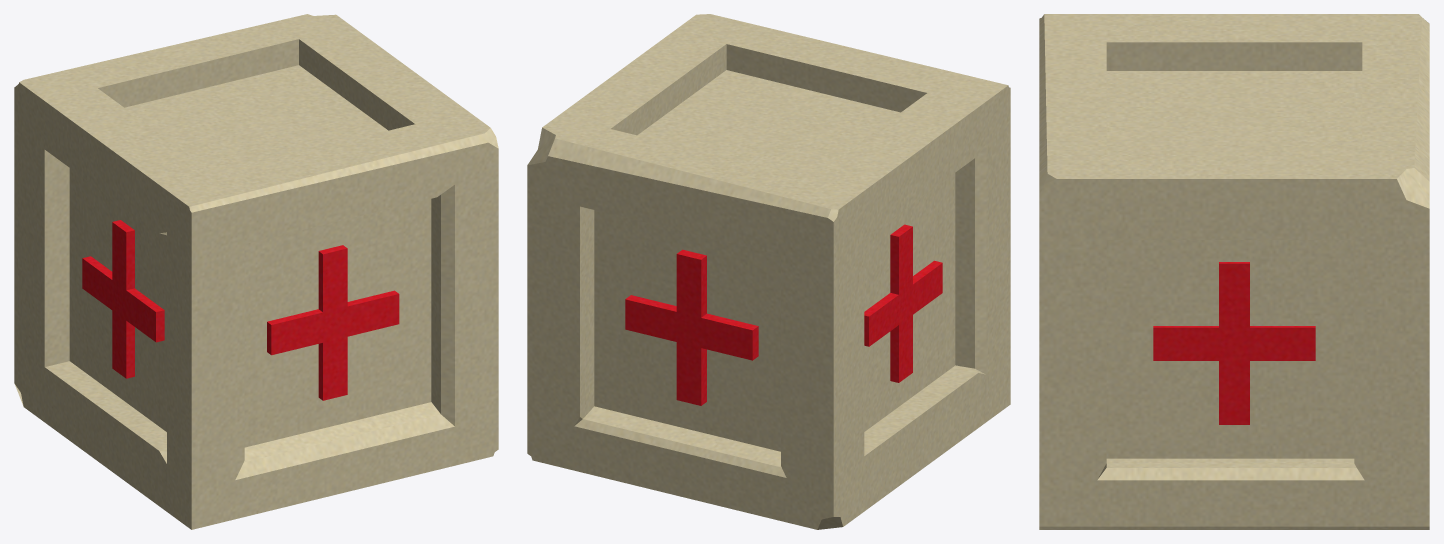
The model's file is health-box.fbx.
3 renders of one model, left to right at view 1: azimuth 30°, elevation 25°; view 2: azimuth 150°, elevation 25°; view 3: azimuth 270°, elevation 25°, orthographic. The views are drawn at different scales.
Visible parts, largest first — view 1: Cube; view 2: Cube; view 3: Cube.
Boxes of the visible parts, bbox=[...] form: Cube: bbox=[14, 14, 498, 529]; Cube: bbox=[527, 14, 1010, 529]; Cube: bbox=[1039, 14, 1429, 529].
Bounding box in the file's own units: 138 × 138 × 138.
